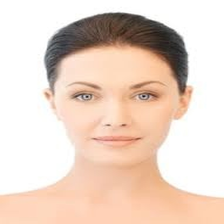no_mask: (58, 54, 173, 164)
